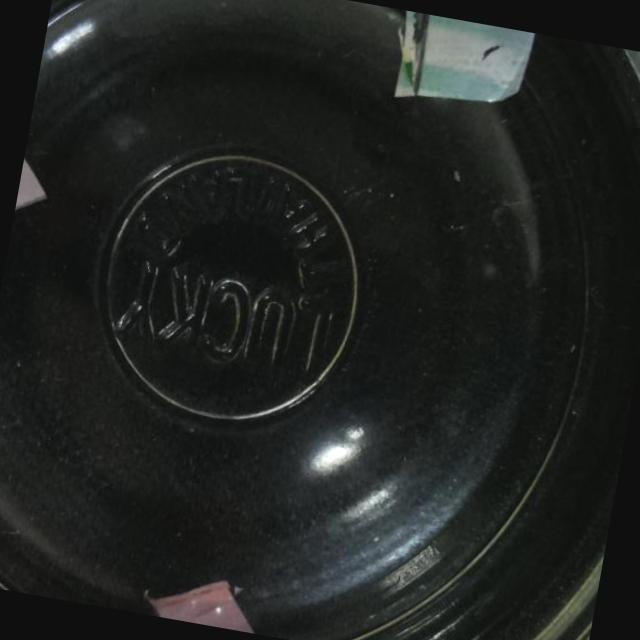fiber: (384, 10, 550, 120), (135, 562, 309, 640), (9, 94, 74, 251)
